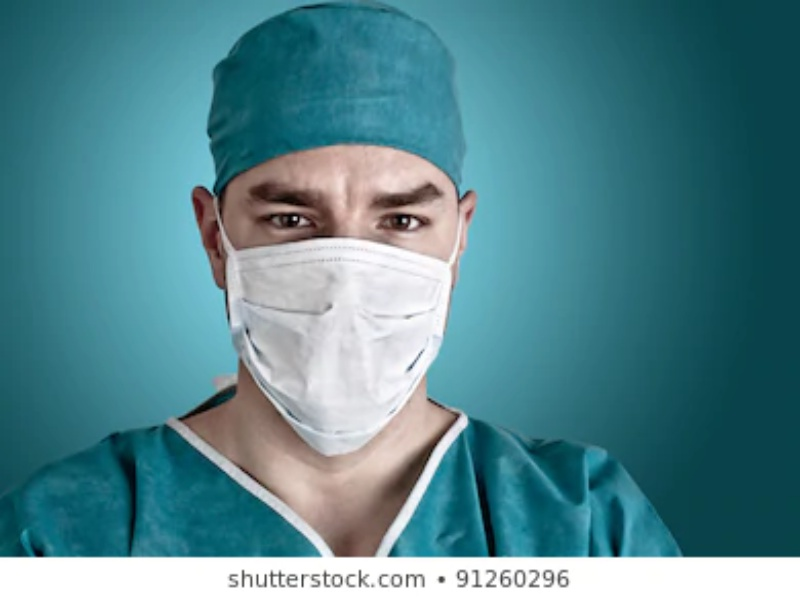ManaoArotava: (173, 48, 502, 499)
